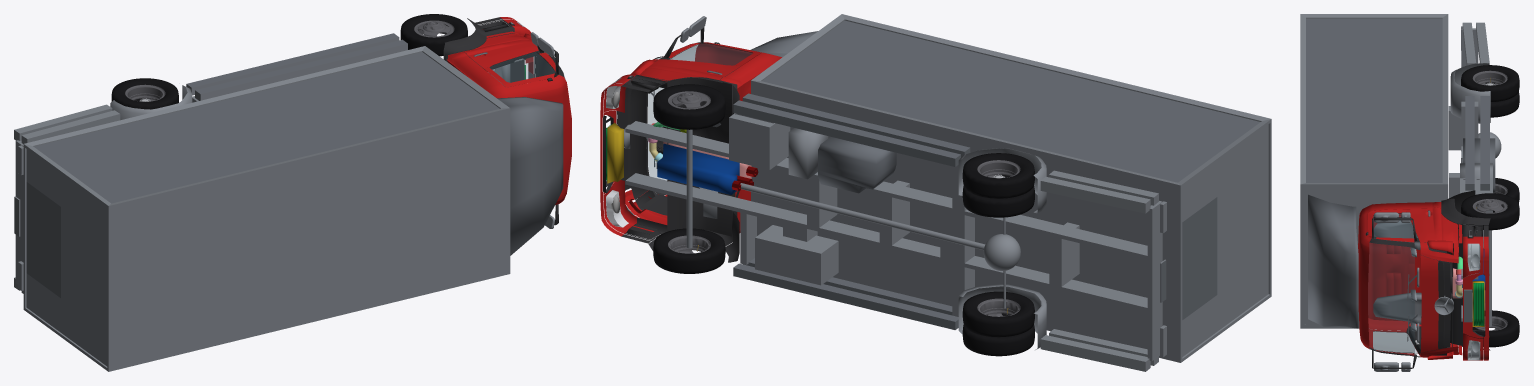
The model's file is atego_full.obj.
3 views of the same model, side by side, from view 1: azimuth 30°, elevation 25°; view 2: azimuth 150°, elevation 25°; view 3: azimuth 270°, elevation 25° (orthographic). The views are drawn at different scales.
Visible parts, largest first — view 1: Cube.004_Cube.023, Plane, Cube.001_Cube.006, Cube.005_Cube.024, KN_111_KN111Shape, KN_111.001_KN111Shape.001, Plane.001; view 2: Cube.004_Cube.023, Cube.001_Cube.006, Plane, KN_111.001_KN111Shape.001, KN_111.001_KN111Shape.002, KN_111_KN111Shape, KN_111_KN111Shape.001, Box002, Plane.001, Box003, Cube.005_Cube.024; view 3: Cube.004_Cube.023, Plane, Cube.001_Cube.006, Cube.005_Cube.024, Plane.001, KN_111.001_KN111Shape.001, KN_111_KN111Shape, Cube.007_Cube.001, KN_111_KN111Shape.001, Cube.006_Cube, Box003, Plane.002_Plane.003 (+2 smaller).
Boxes of the visible parts, x1=… form: Cube.004_Cube.023: x1=23, y1=46, x2=510, y2=371; Plane: x1=443, y1=17, x2=571, y2=228; Cube.001_Cube.006: x1=14, y1=33, x2=407, y2=293; Cube.005_Cube.024: x1=497, y1=97, x2=563, y2=255; KN_111_KN111Shape: x1=400, y1=14, x2=467, y2=56; KN_111.001_KN111Shape.001: x1=111, y1=78, x2=178, y2=109; Plane.001: x1=490, y1=52, x2=565, y2=82; Cube.004_Cube.023: x1=751, y1=14, x2=1271, y2=362; Cube.001_Cube.006: x1=625, y1=93, x2=1162, y2=371; Plane: x1=600, y1=16, x2=781, y2=262; KN_111.001_KN111Shape.001: x1=962, y1=153, x2=1034, y2=217; KN_111.001_KN111Shape.002: x1=962, y1=291, x2=1034, y2=356; KN_111_KN111Shape: x1=653, y1=84, x2=725, y2=129; KN_111_KN111Shape.001: x1=653, y1=228, x2=725, y2=273; Box002: x1=657, y1=143, x2=739, y2=194; Plane.001: x1=648, y1=44, x2=752, y2=180; Box003: x1=606, y1=122, x2=623, y2=183; Cube.005_Cube.024: x1=750, y1=31, x2=817, y2=57; Cube.004_Cube.023: x1=1300, y1=14, x2=1448, y2=328; Plane: x1=1358, y1=190, x2=1490, y2=371; Cube.001_Cube.006: x1=1448, y1=22, x2=1501, y2=326; Cube.005_Cube.024: x1=1308, y1=194, x2=1358, y2=328; Plane.001: x1=1368, y1=214, x2=1417, y2=355; KN_111.001_KN111Shape.001: x1=1461, y1=65, x2=1519, y2=117; KN_111_KN111Shape: x1=1461, y1=193, x2=1519, y2=230; Cube.007_Cube.001: x1=1373, y1=289, x2=1421, y2=331; KN_111_KN111Shape.001: x1=1464, y1=310, x2=1519, y2=347; Cube.006_Cube: x1=1373, y1=220, x2=1420, y2=257; Box003: x1=1472, y1=281, x2=1484, y2=326; Plane.002_Plane.003: x1=1468, y1=244, x2=1479, y2=360.
Size of the model in its own units: 7.99 by 2.69 by 3.35.
